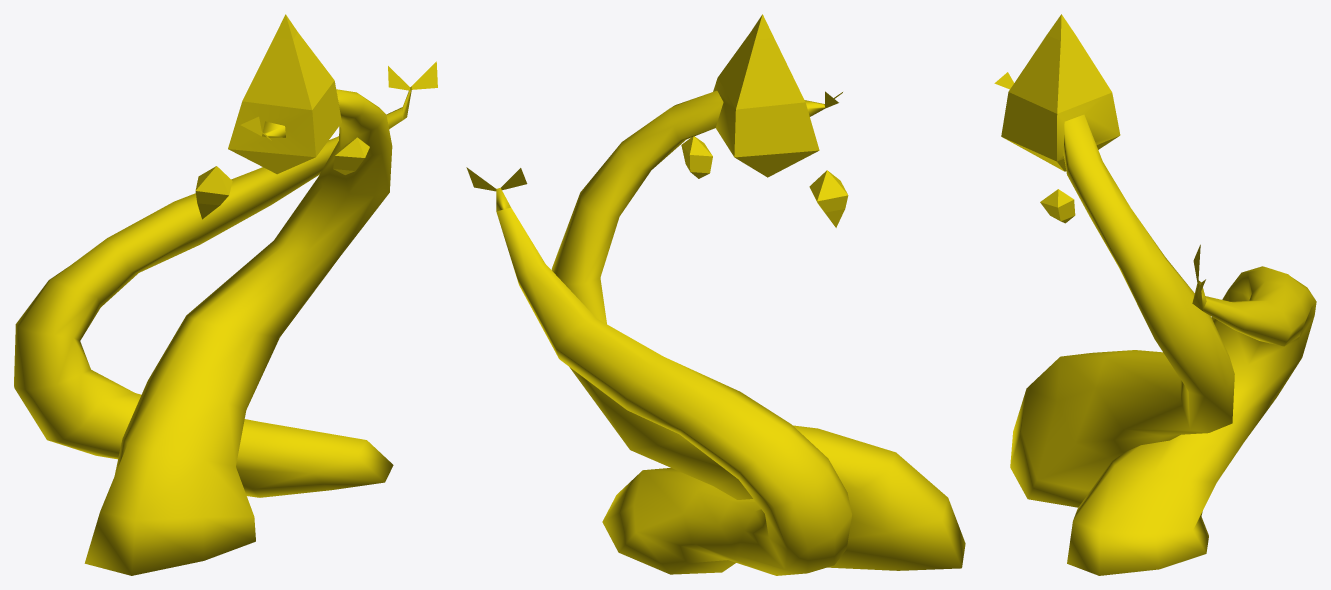
Rendered from LightTotem.fbx.
The picture shows the model from 3 angles, left to right: view 1: azimuth 30°, elevation 25°; view 2: azimuth 150°, elevation 25°; view 3: azimuth 270°, elevation 25°; orthographic projection.
Parts seen in each view (by area): view 1: Cube.001; view 2: Cube.001; view 3: Cube.001.
Part boxes in pixels (left/top/right/bottom): Cube.001: left=14, top=14, right=437, bottom=575; Cube.001: left=466, top=14, right=965, bottom=575; Cube.001: left=994, top=14, right=1316, bottom=575.
Bounding box in the file's own units: 47.12 × 54.76 × 30.87.
